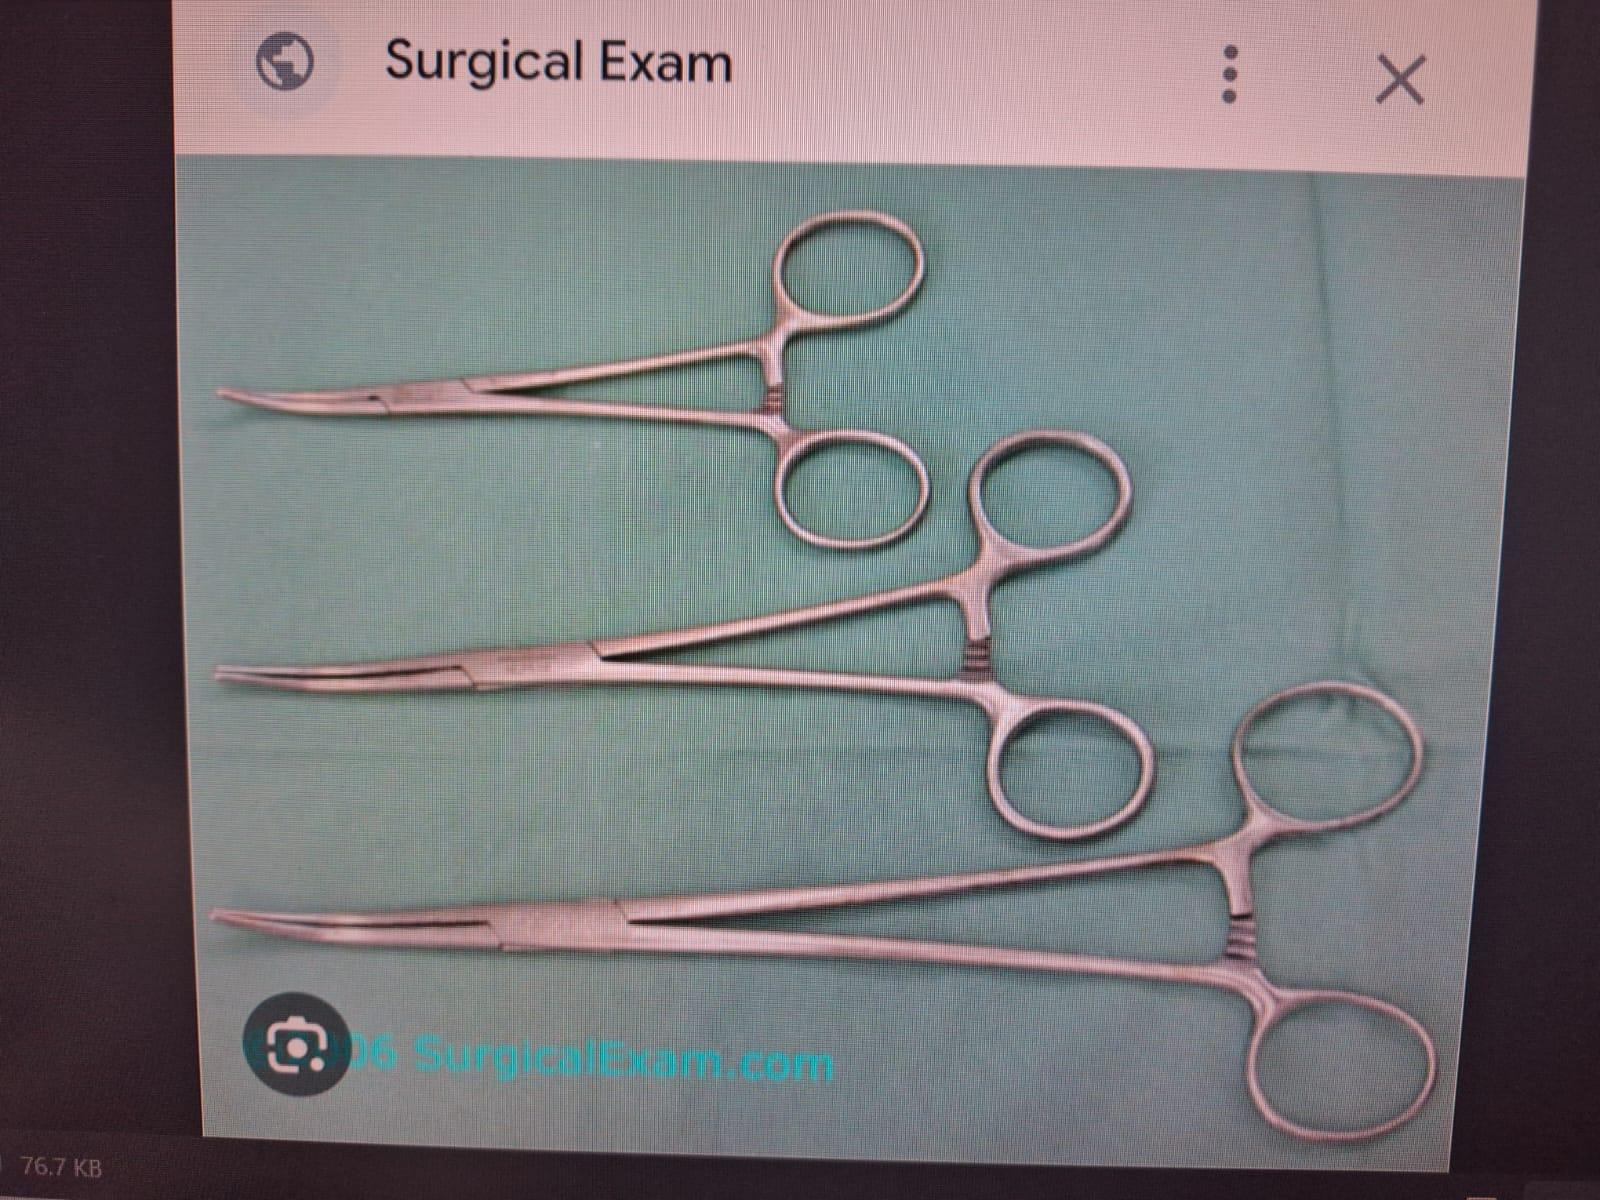Artery Forceps: (198, 658, 1474, 1148), (207, 416, 1175, 839), (200, 187, 952, 562)
